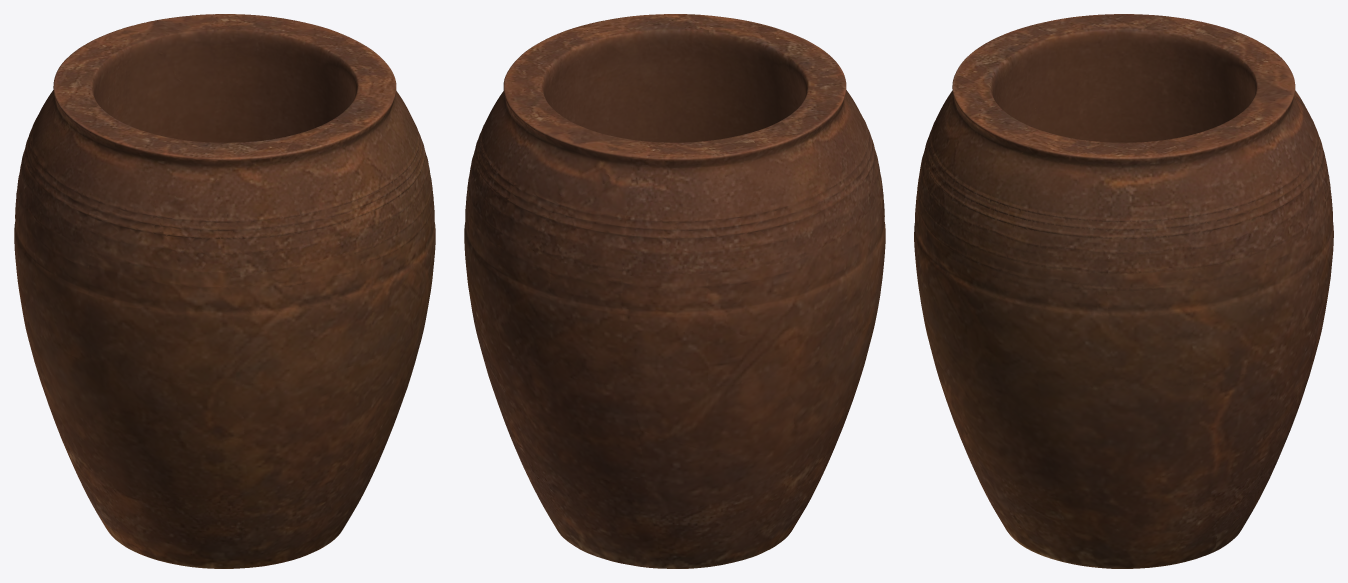
The model's file is jar_body.glb.
The picture shows the model from 3 angles, left to right: view 1: azimuth 30°, elevation 25°; view 2: azimuth 150°, elevation 25°; view 3: azimuth 270°, elevation 25°; orthographic projection.
Size of the model in its own units: 1.67 by 1.9 by 1.67.
Materials: 1 (1 with a texture image).
